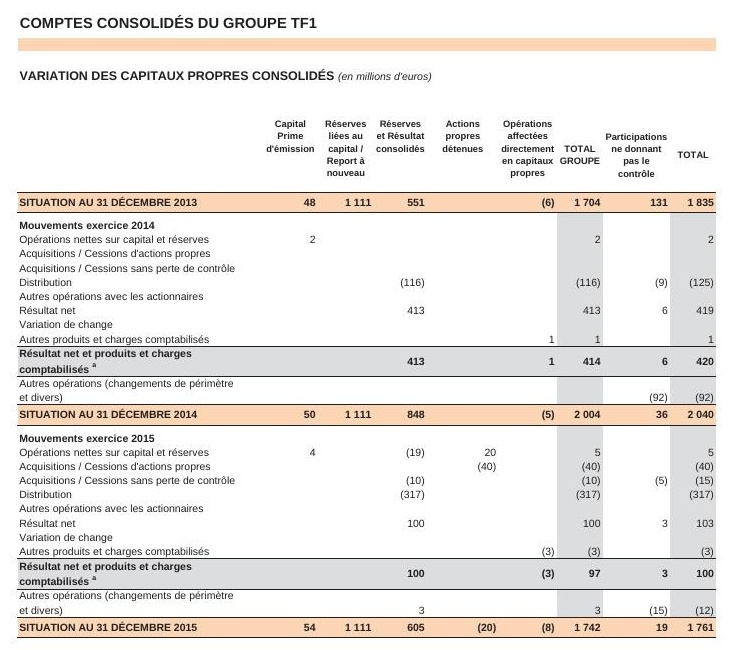table: (0, 0, 730, 650)
